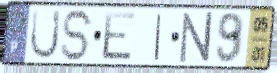9: (213, 11, 247, 66)
E: (100, 9, 137, 62)
I: (153, 12, 164, 63)
N: (179, 10, 214, 66)
S: (59, 7, 96, 63)
U: (28, 8, 63, 62)
